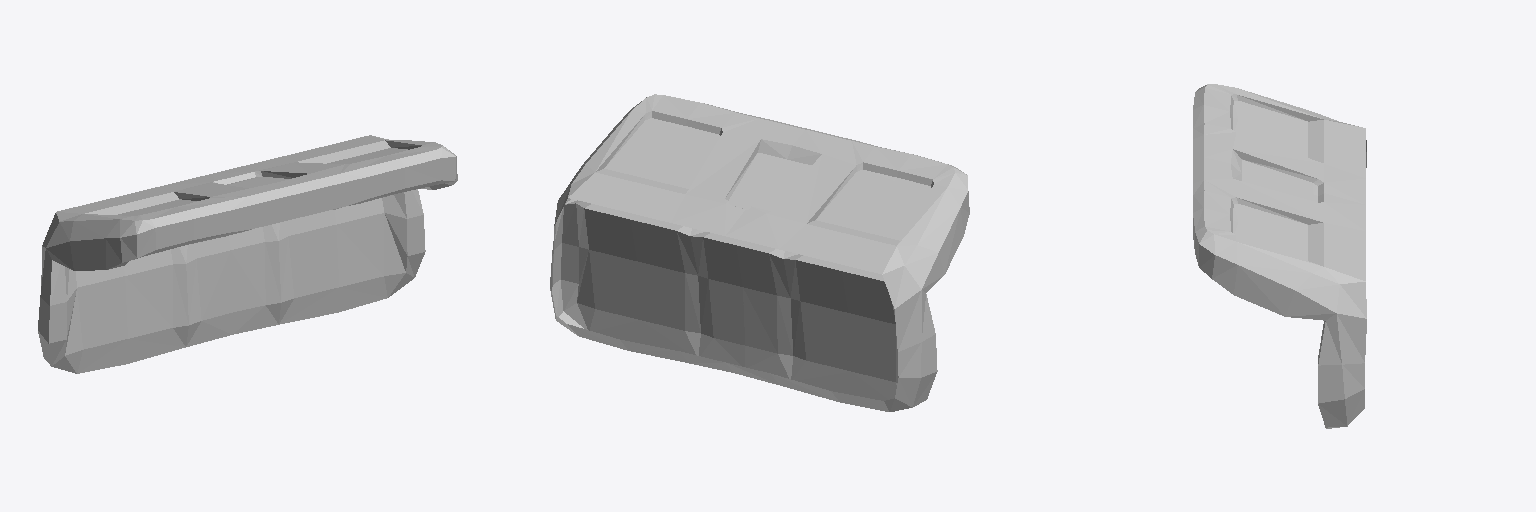
File: Asientos.obj
3 renders of one model, left to right at view 1: azimuth 30°, elevation 25°; view 2: azimuth 150°, elevation 25°; view 3: azimuth 270°, elevation 25°, orthographic.
Visible parts, largest first — view 1: Object.1; view 2: Object.1; view 3: Object.1.
Boxes of the visible parts, <box> form: Object.1: <box>38,135,457,373</box>; Object.1: <box>550,94,969,411</box>; Object.1: <box>1193,84,1366,428</box>.
Bounding box in the file's own units: 11.4 × 5.76 × 4.57.